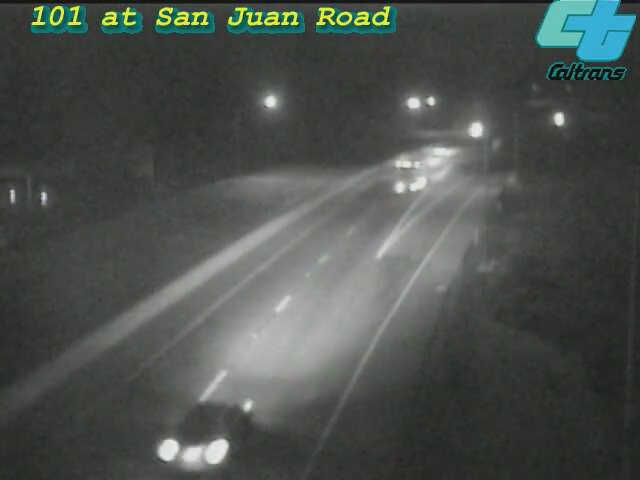vehicle: (153, 387, 263, 480), (369, 136, 449, 216), (449, 103, 499, 153), (533, 94, 583, 144), (422, 123, 472, 173), (401, 132, 451, 182)
